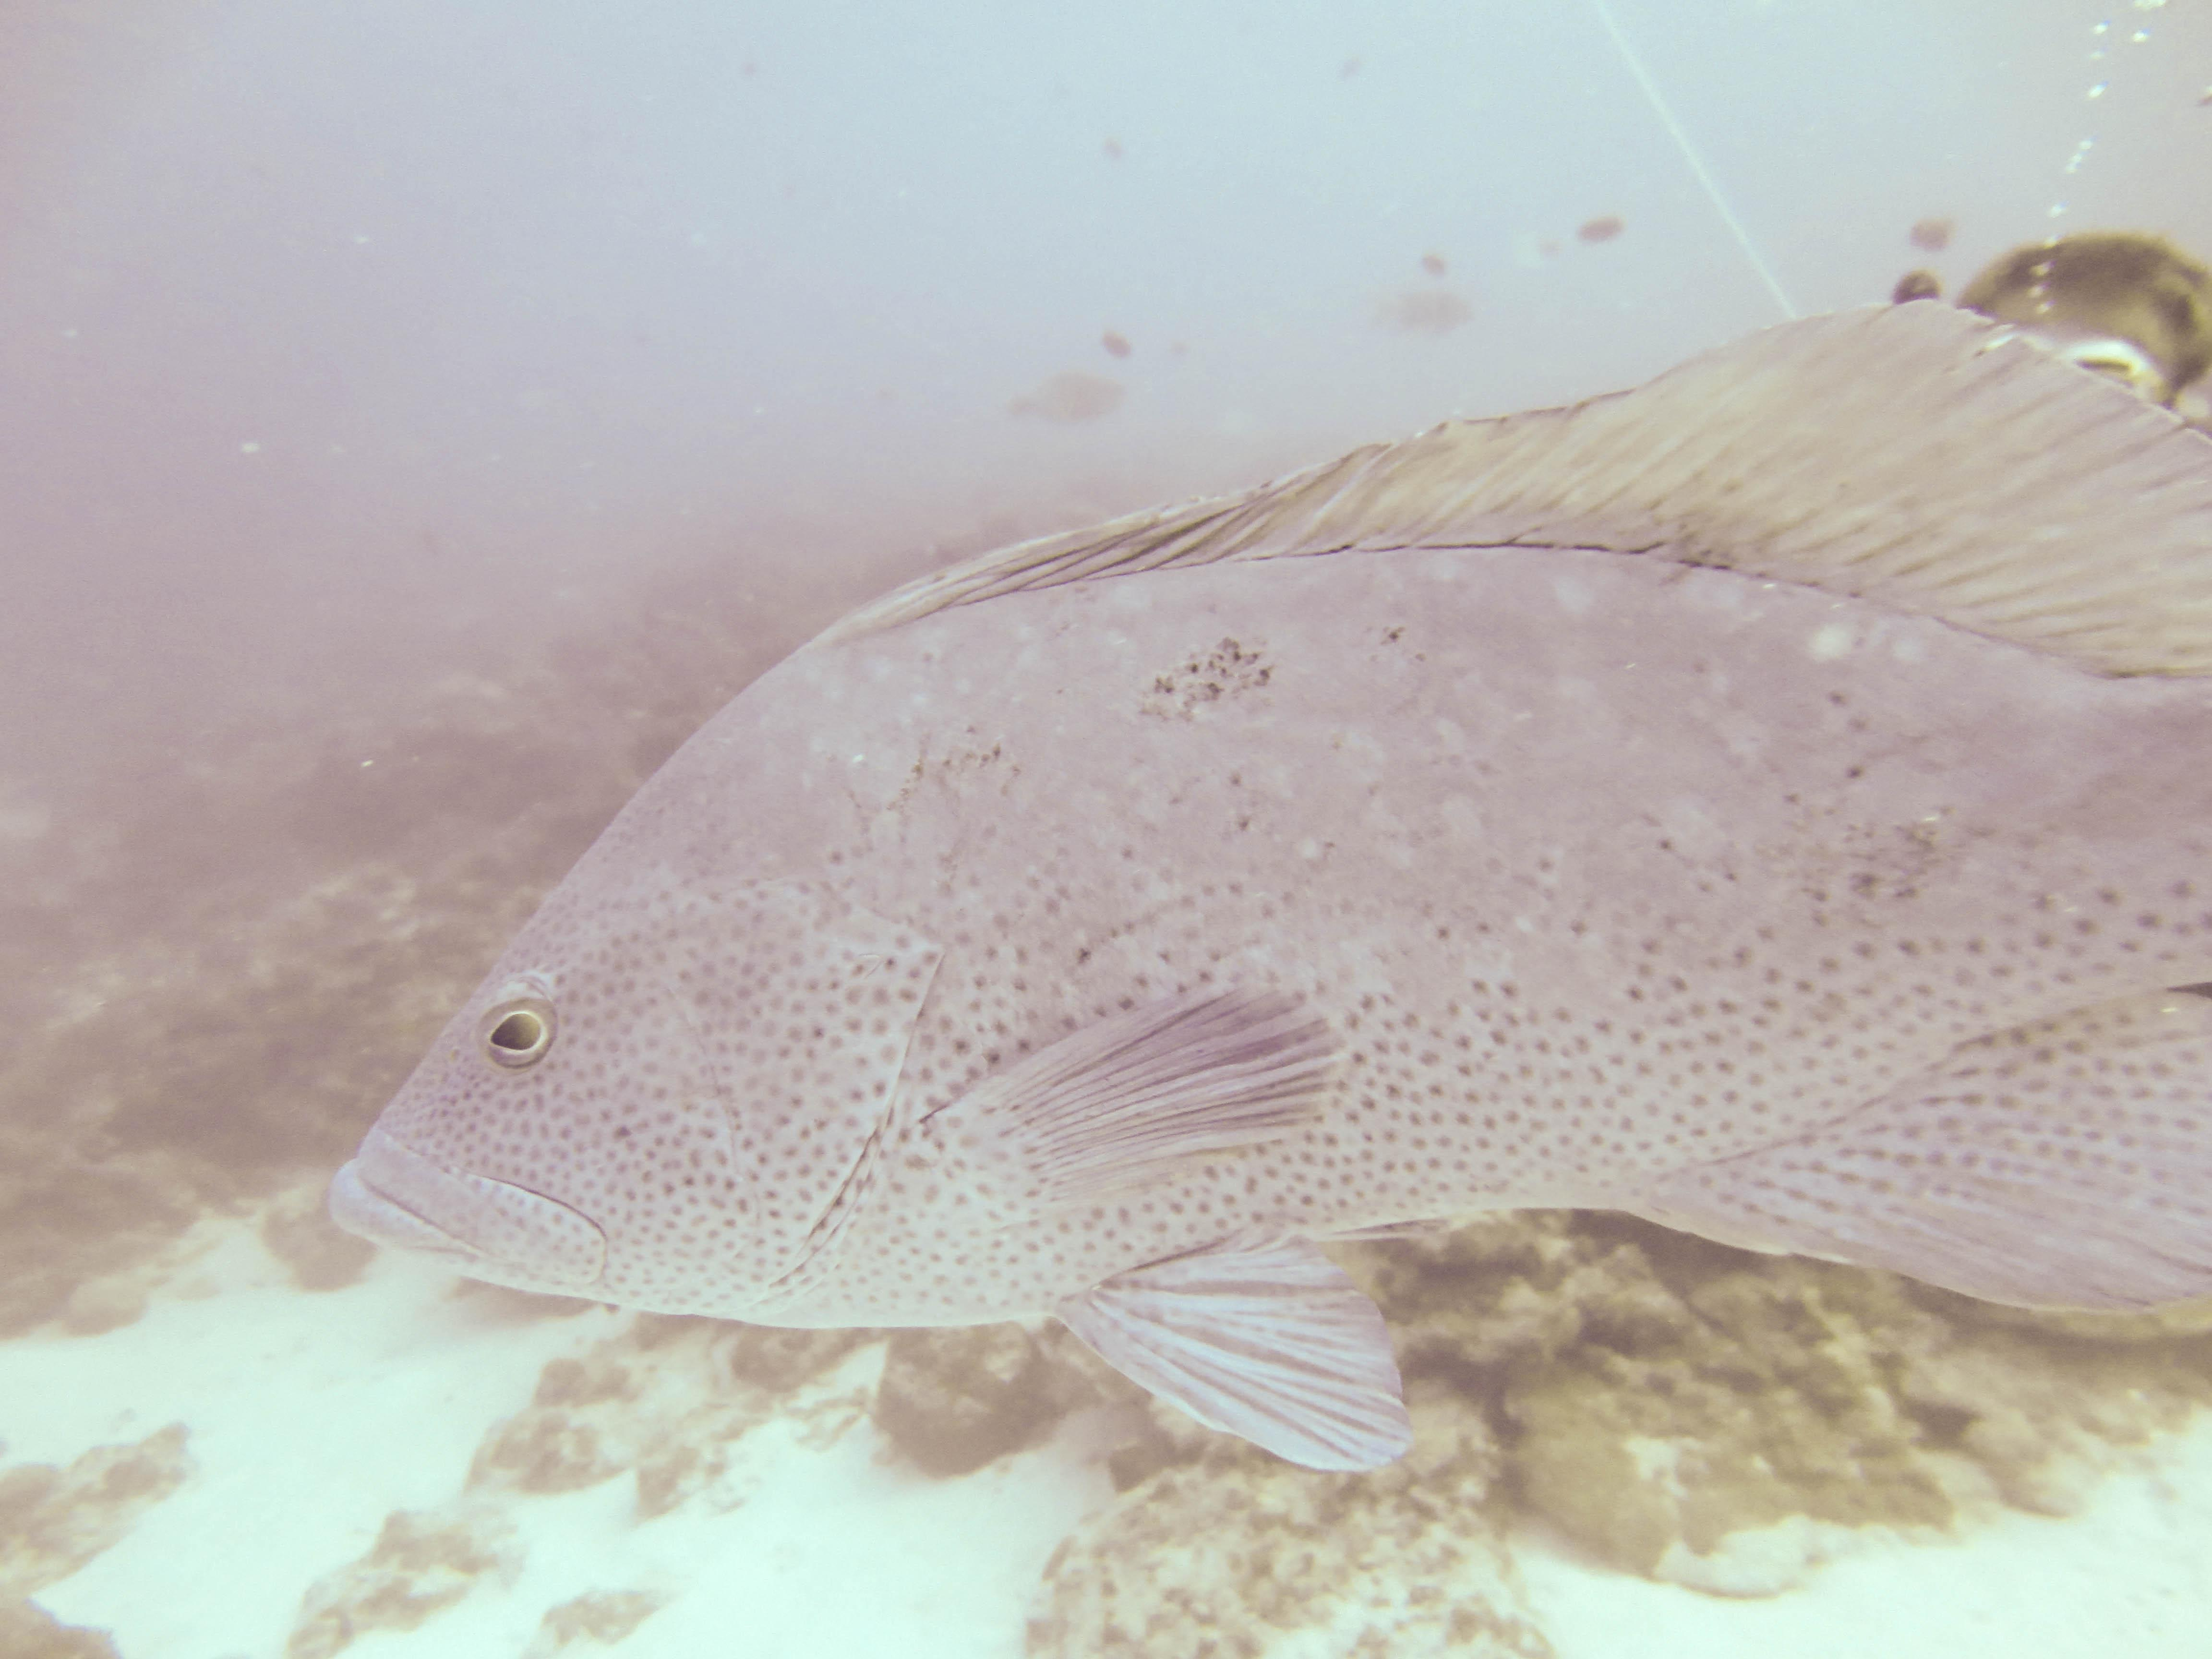Fish: (68, 275, 2212, 1502)
